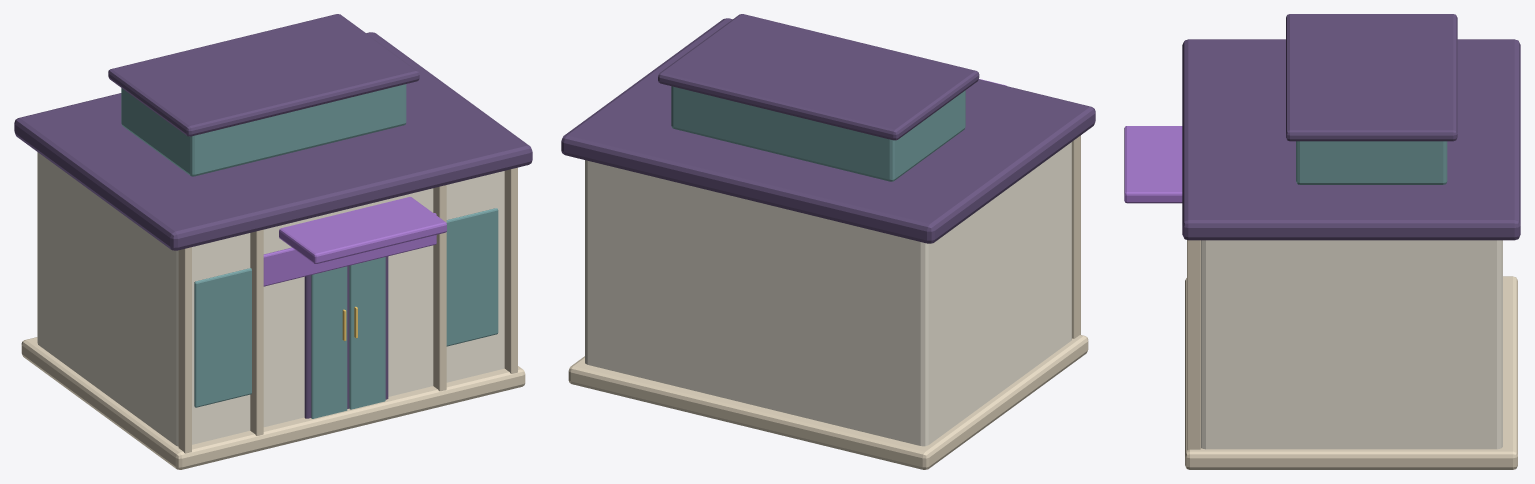
File: grace-pavilion.glb
3 renders of one model, left to right at view 1: azimuth 30°, elevation 25°; view 2: azimuth 150°, elevation 25°; view 3: azimuth 270°, elevation 25°, orthographic. The views are drawn at different scales.
Parts seen in each view (by area): view 1: pavilion_shell, green_roof, lantern_cap, clerestory, foundation, window, window.001, entry_canopy, door_leaf, door_leaf.001, timber_fin, timber_fin.003 (+4 smaller); view 2: pavilion_shell, green_roof, lantern_cap, foundation, clerestory, timber_fin; view 3: pavilion_shell, green_roof, lantern_cap, foundation, clerestory, entry_canopy, timber_fin.003.
Boxes of the visible parts, <box> form: pavilion_shell: <box>37,152,504,446</box>; green_roof: <box>14,32,532,250</box>; lantern_cap: <box>108,14,419,136</box>; clerestory: <box>121,84,406,176</box>; foundation: <box>21,337,525,469</box>; window: <box>194,268,251,407</box>; window.001: <box>446,208,498,346</box>; entry_canopy: <box>279,197,446,263</box>; door_leaf: <box>311,266,347,418</box>; door_leaf.001: <box>349,257,385,409</box>; timber_fin: <box>178,247,191,453</box>; timber_fin.003: <box>504,167,517,373</box>; pavilion_shell: <box>585,142,1071,446</box>; green_roof: <box>561,18,1095,243</box>; lantern_cap: <box>658,14,979,140</box>; foundation: <box>568,335,1088,469</box>; clerestory: <box>671,86,965,181</box>; timber_fin: <box>1072,135,1080,338</box>; pavilion_shell: <box>1201,240,1502,449</box>; green_roof: <box>1182,39,1520,240</box>; lantern_cap: <box>1286,14,1457,141</box>; foundation: <box>1185,276,1517,469</box>; clerestory: <box>1296,141,1447,184</box>; entry_canopy: <box>1124,126,1182,203</box>; timber_fin.003: <box>1187,240,1200,450</box>.
Bounding box in the file's own units: 4.35 × 3.39 × 3.92.
